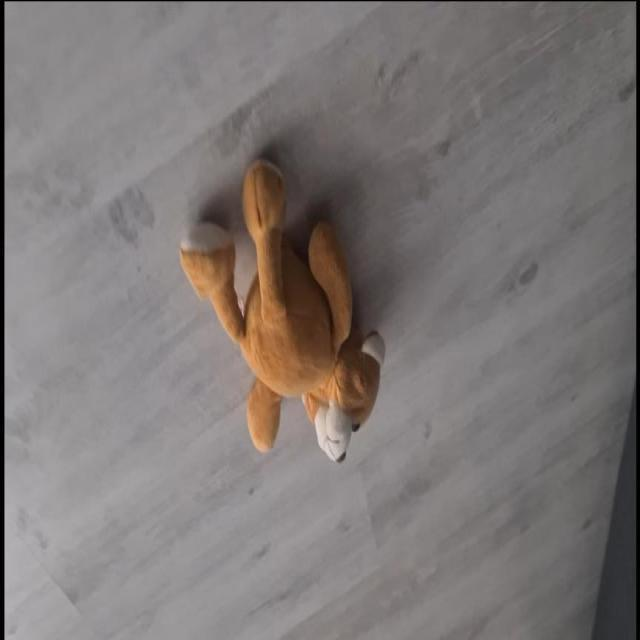soft-toy: (181, 161, 385, 462)
